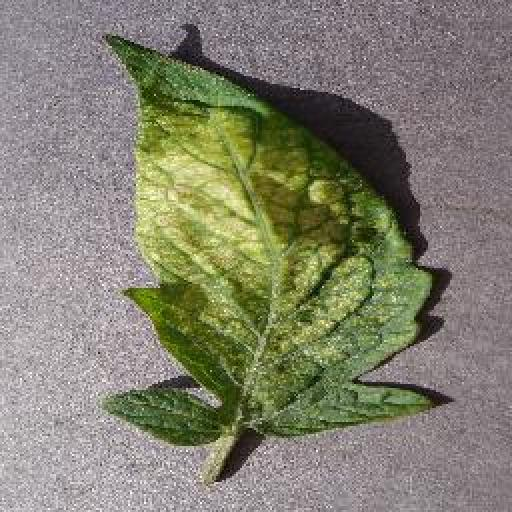Spider Mites: (103, 31, 437, 444)
